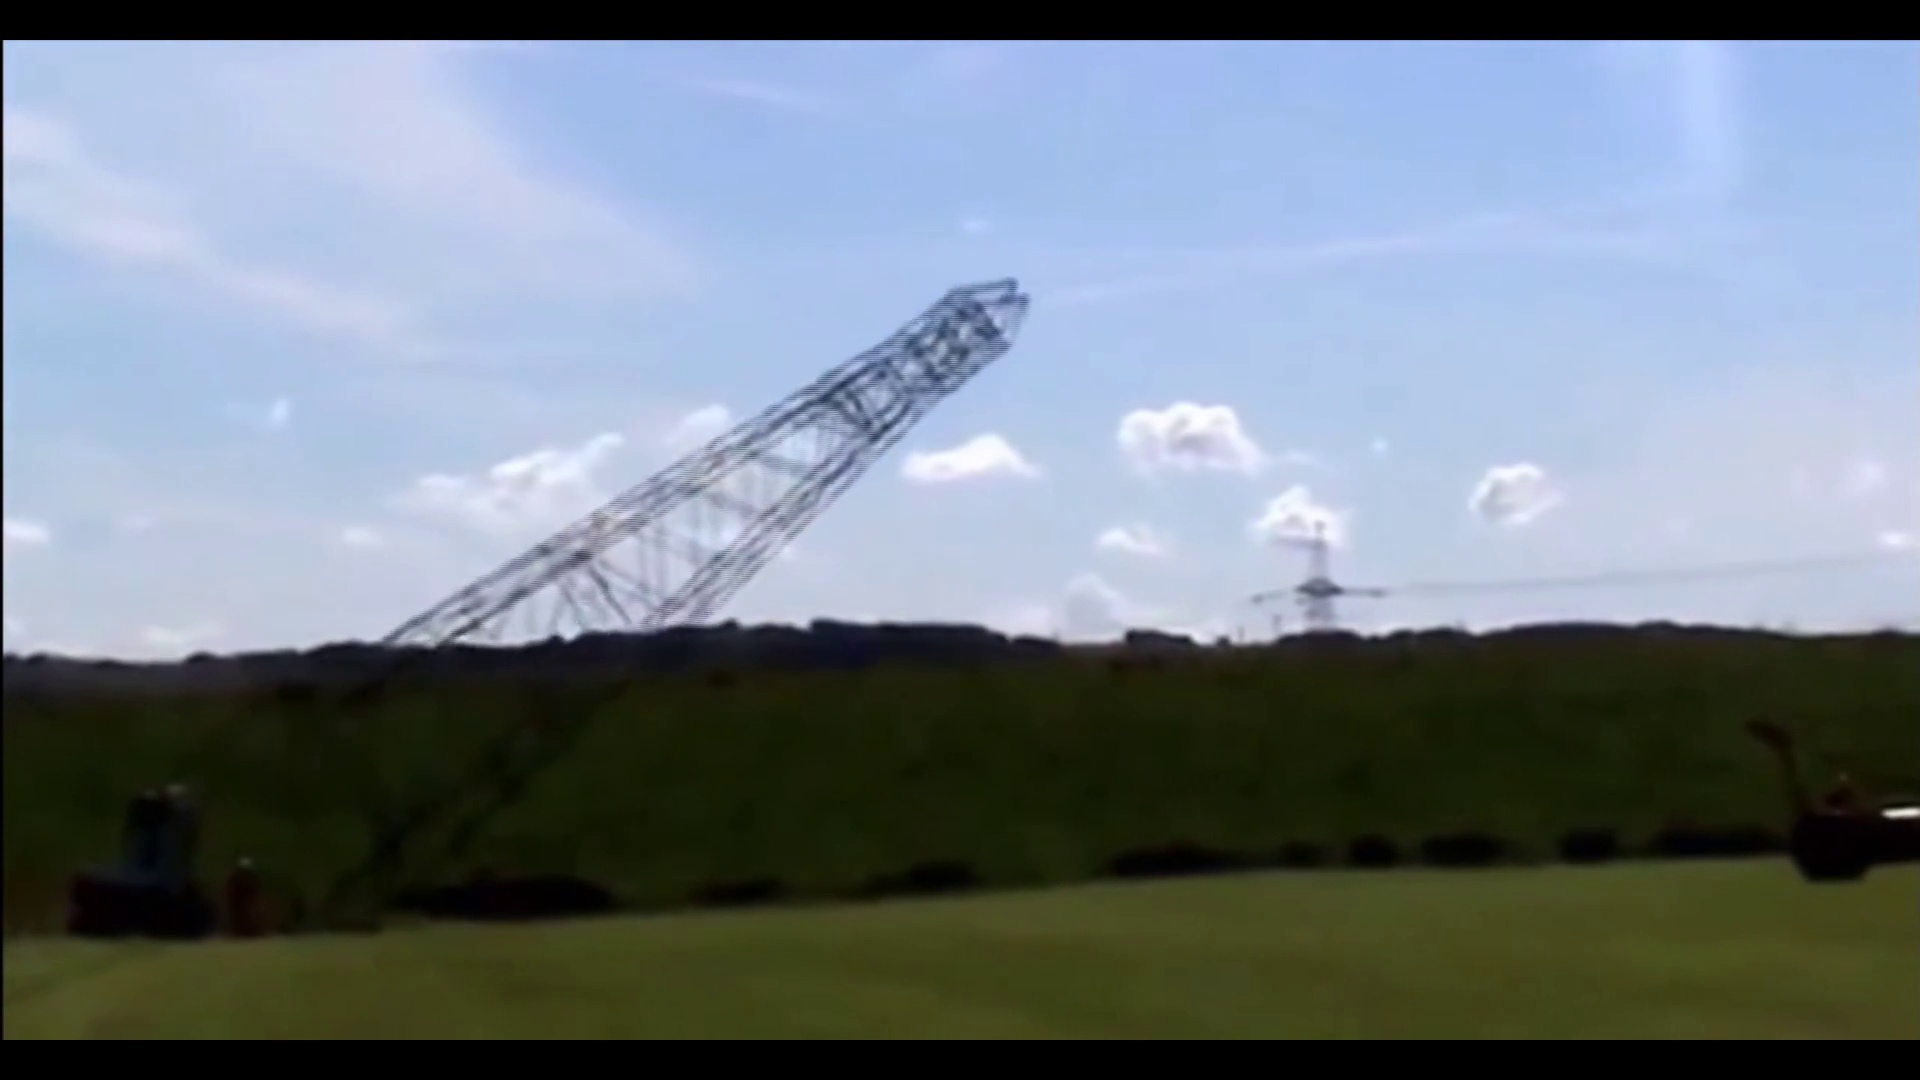tower_down: (361, 258, 1047, 626)
